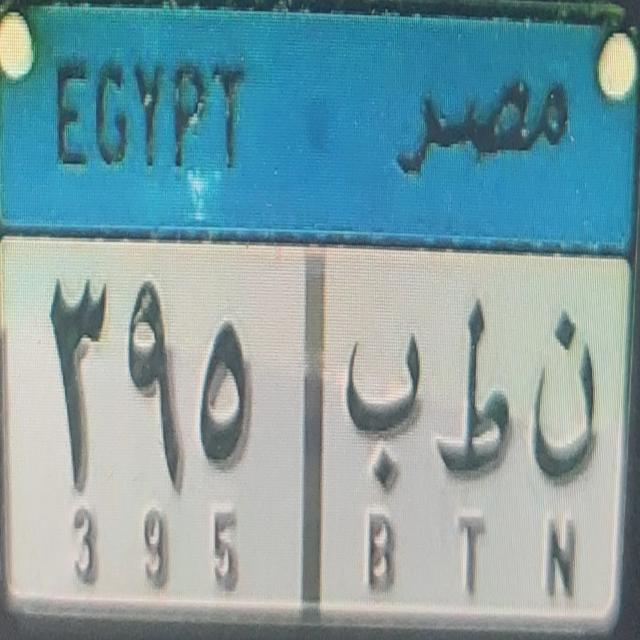car-plate: (12, 25, 610, 628)
